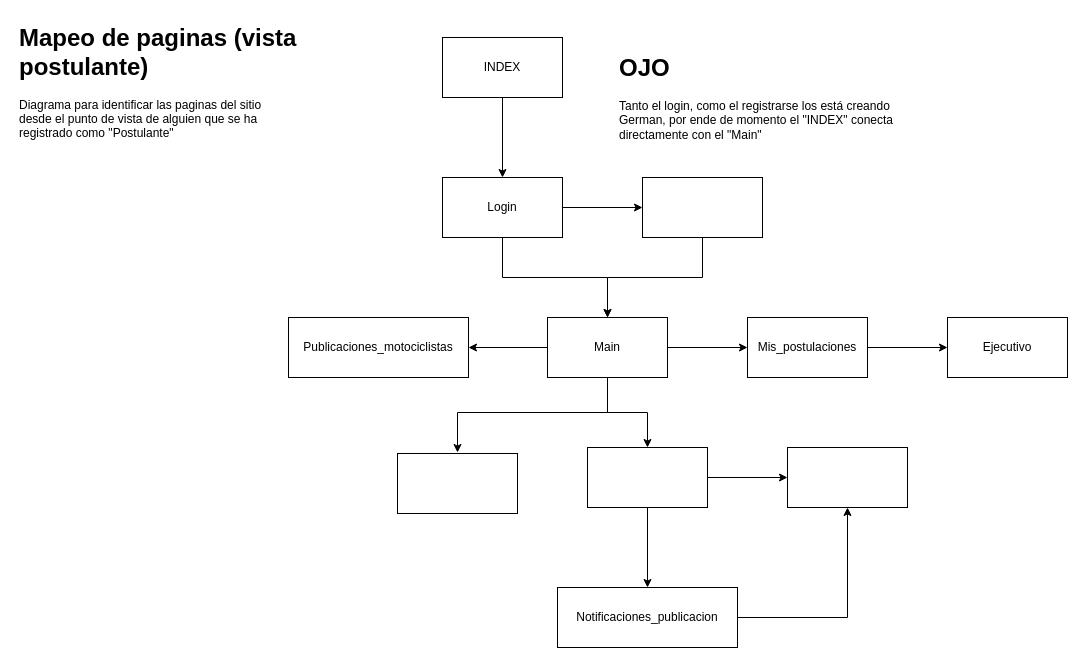
Some shapes in this 1085 by 665 pixel diagram are drawn without their labels. The centre of each missing label's shape, as x and y in pixels:
"Notificaciones" goes at point (647, 477).
"Notificaciones_chat" goes at point (847, 477).
"Perfil_postulante" goes at point (457, 483).
"Registrarse" goes at point (702, 207).
